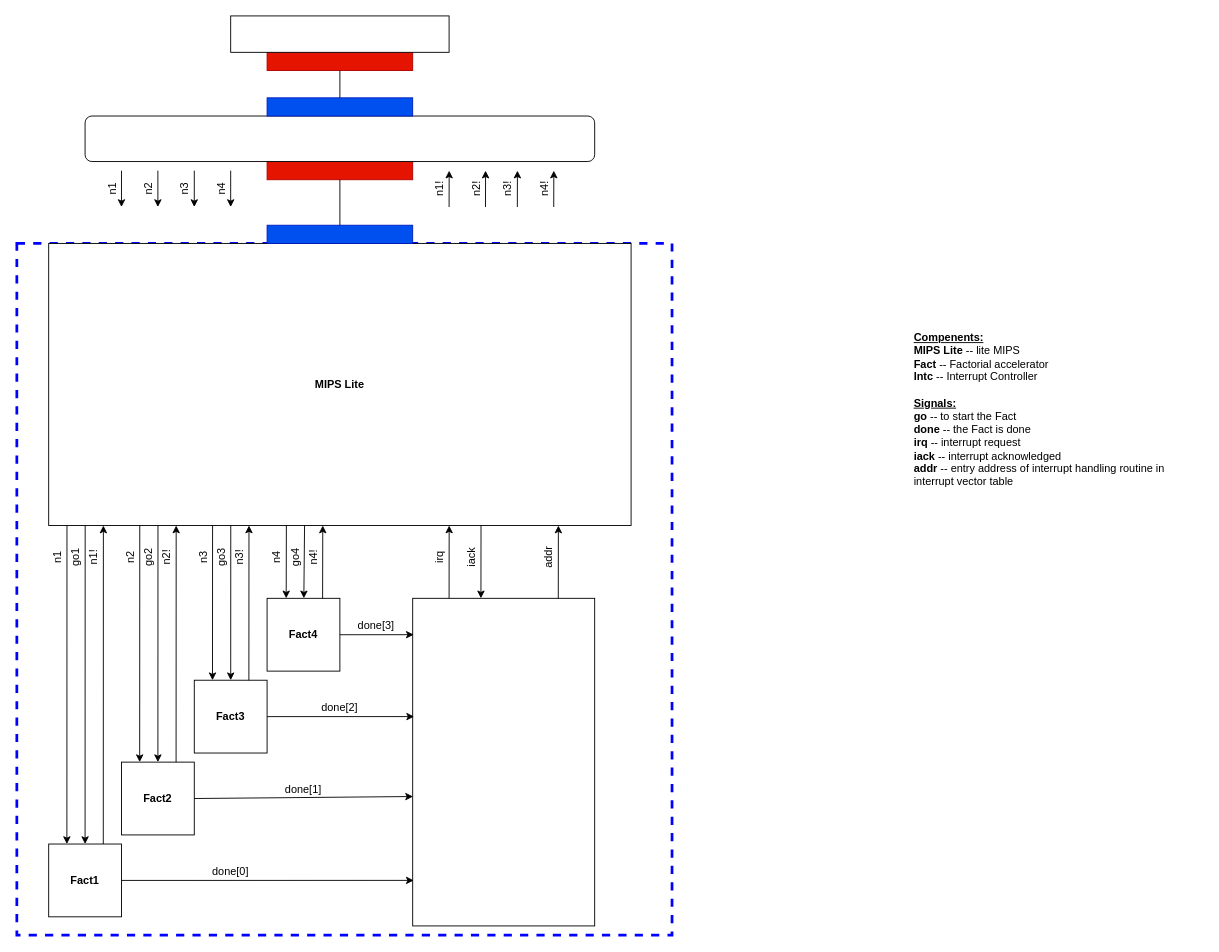
Some shapes in this 1219 by 952 pixel diagram are drawn without their labels. Each missing label, with the box of its shape:
AXI Interconnections: (84, 115, 595, 162)
Cortex A9: (230, 15, 449, 52)
Intc: (412, 597, 595, 926)
